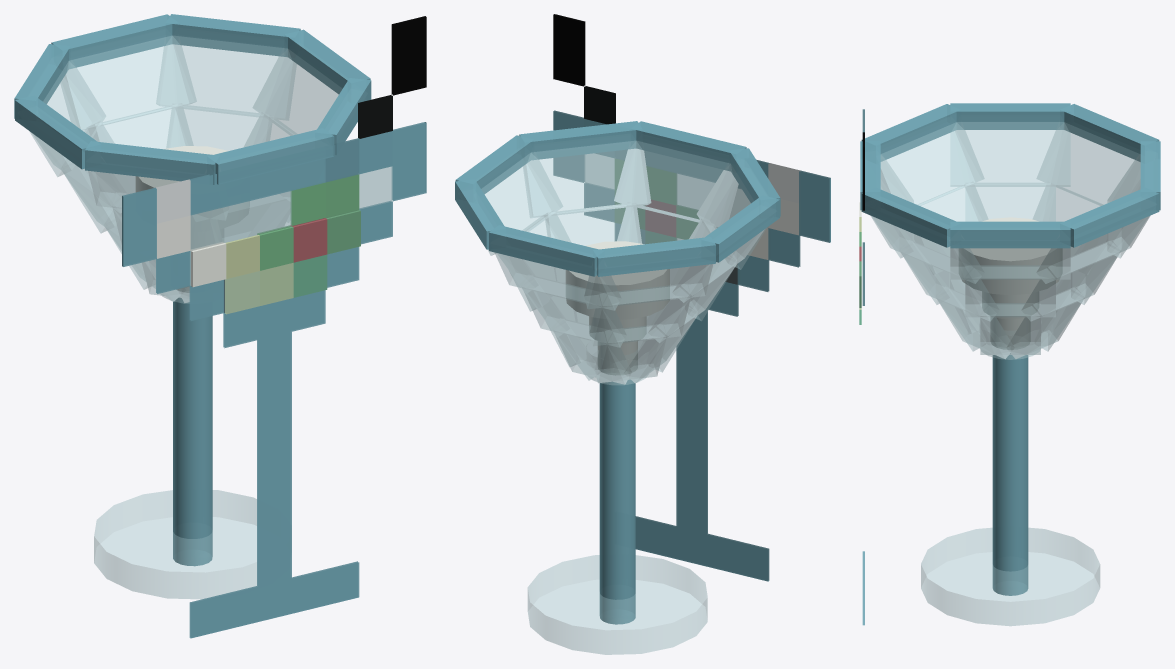
File: CMU3DDrinkVodkaMartiniGlass.glb
3 renders of one model, left to right at view 1: azimuth 30°, elevation 25°; view 2: azimuth 150°, elevation 25°; view 3: azimuth 270°, elevation 25°, orthographic. The views are drawn at different scales.
Visible parts, largest first — view 1: base original source artwork, circular glass foot, glass stem, fill original source artwork, hollow wall tier 3 facet 2, hollow wall tier 3 facet 3, hollow wall tier 3 facet 1, hollow wall tier 2 facet 2, open rim facet 6, open rim facet 7, open rim facet 2, open rim facet 3 (+14 smaller); view 2: base original source artwork, circular glass foot, glass stem, hollow wall tier 3 facet 8, hollow wall tier 3 facet 7, liquid volume tier 3, hollow wall tier 2 facet 4, hollow wall tier 2 facet 3, hollow wall tier 3 facet 4, hollow wall tier 3 facet 1, hollow wall tier 3 facet 3, open rim facet 4 (+22 smaller); view 3: circular glass foot, glass stem, hollow wall tier 3 facet 5, hollow wall tier 3 facet 4, hollow wall tier 3 facet 6, liquid volume tier 3, hollow wall tier 2 facet 1, hollow wall tier 3 facet 1, hollow wall tier 2 facet 5, open rim facet 1, hollow wall tier 2 facet 8, hollow wall tier 2 facet 2 (+23 smaller).
Boxes of the visible parts, bbox=[...] form: base original source artwork: bbox=[122, 16, 426, 638]; circular glass foot: bbox=[94, 490, 256, 599]; glass stem: bbox=[173, 297, 212, 566]; fill original source artwork: bbox=[191, 210, 360, 314]; hollow wall tier 3 facet 2: bbox=[156, 36, 296, 120]; hollow wall tier 3 facet 3: bbox=[60, 36, 196, 130]; hollow wall tier 3 facet 1: bbox=[252, 49, 341, 135]; hollow wall tier 2 facet 2: bbox=[166, 103, 271, 150]; open rim facet 6: bbox=[85, 141, 218, 184]; open rim facet 7: bbox=[207, 128, 334, 184]; open rim facet 2: bbox=[166, 14, 300, 57]; open rim facet 3: bbox=[51, 14, 177, 69]; base original source artwork: bbox=[553, 14, 830, 581]; circular glass foot: bbox=[527, 555, 707, 654]; glass stem: bbox=[599, 379, 635, 624]; hollow wall tier 3 facet 8: bbox=[523, 141, 650, 217]; hollow wall tier 3 facet 7: bbox=[614, 141, 738, 226]; liquid volume tier 3: bbox=[565, 241, 669, 319]; hollow wall tier 2 facet 4: bbox=[589, 284, 690, 346]; hollow wall tier 2 facet 3: bbox=[522, 275, 626, 347]; hollow wall tier 3 facet 4: bbox=[584, 264, 713, 309]; hollow wall tier 3 facet 1: bbox=[481, 153, 562, 255]; hollow wall tier 3 facet 3: bbox=[494, 252, 621, 310]; open rim facet 4: bbox=[593, 237, 715, 276]; circular glass foot: bbox=[921, 527, 1100, 626]; glass stem: bbox=[992, 353, 1028, 595]; hollow wall tier 3 facet 5: bbox=[950, 122, 1070, 186]; hollow wall tier 3 facet 4: bbox=[1036, 122, 1140, 205]; hollow wall tier 3 facet 6: bbox=[881, 122, 984, 205]; liquid volume tier 3: bbox=[959, 217, 1062, 295]; hollow wall tier 2 facet 1: bbox=[965, 265, 1055, 317]; hollow wall tier 3 facet 1: bbox=[950, 248, 1070, 279]; hollow wall tier 2 facet 5: bbox=[965, 183, 1055, 221]; open rim facet 1: bbox=[950, 221, 1070, 248]; hollow wall tier 2 facet 8: bbox=[900, 240, 999, 321]; hollow wall tier 2 facet 2: bbox=[1021, 240, 1120, 321].
Size of what is drawn, in the model's own units: 0.2812 by 0.5 by 0.269.
5 materials, 2 textured.
